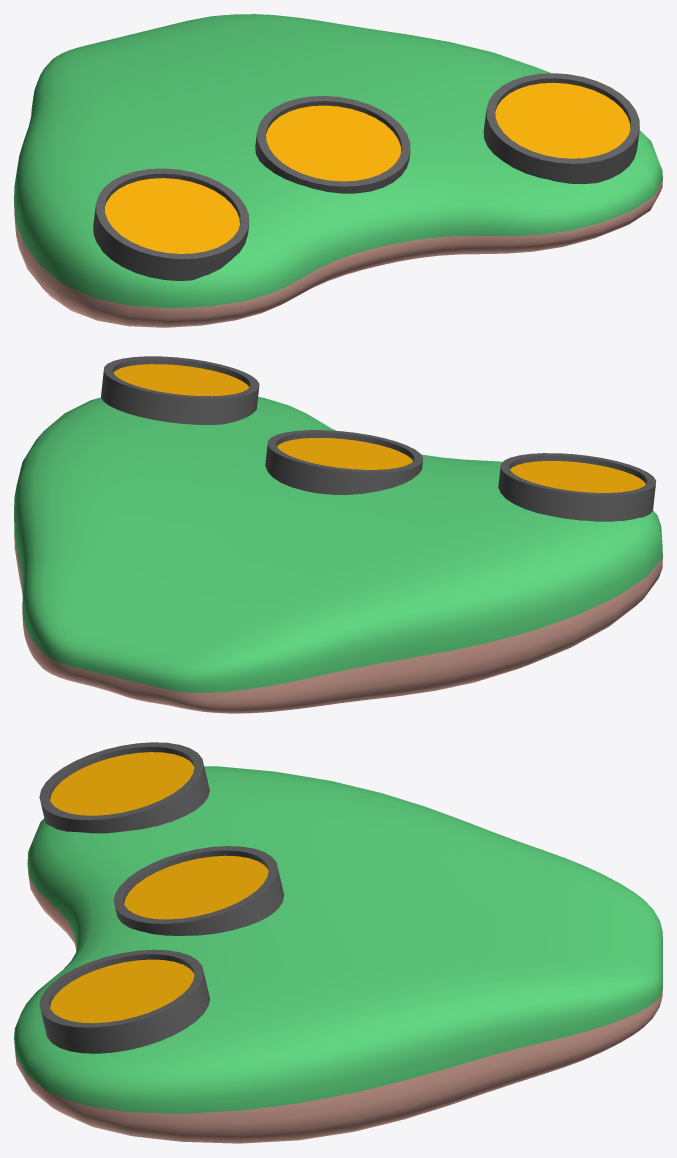
Rendered from WEB3_MENU_MAIN.gltf.
3 renders of one model, top to bottom at view 1: azimuth 30°, elevation 25°; view 2: azimuth 150°, elevation 25°; view 3: azimuth 270°, elevation 25°, orthographic. The views are drawn at different scales.
Visible parts, largest first — view 1: Cube, Cylinder.001, Cylinder; view 2: Cube, Cylinder.001, Cylinder; view 3: Cube, Cylinder.001, Cylinder.
Boxes of the visible parts, x1,y1,x2,y2 form: Cube: (14, 14, 662, 327); Cylinder.001: (93, 73, 639, 280); Cylinder: (255, 96, 410, 193); Cube: (14, 397, 662, 713); Cylinder.001: (101, 356, 655, 521); Cylinder: (265, 430, 423, 494); Cube: (14, 766, 662, 1143); Cylinder.001: (39, 742, 209, 1053); Cylinder: (113, 846, 284, 935).
Size of the model in its own units: 3.46 by 0.786 by 3.09.
